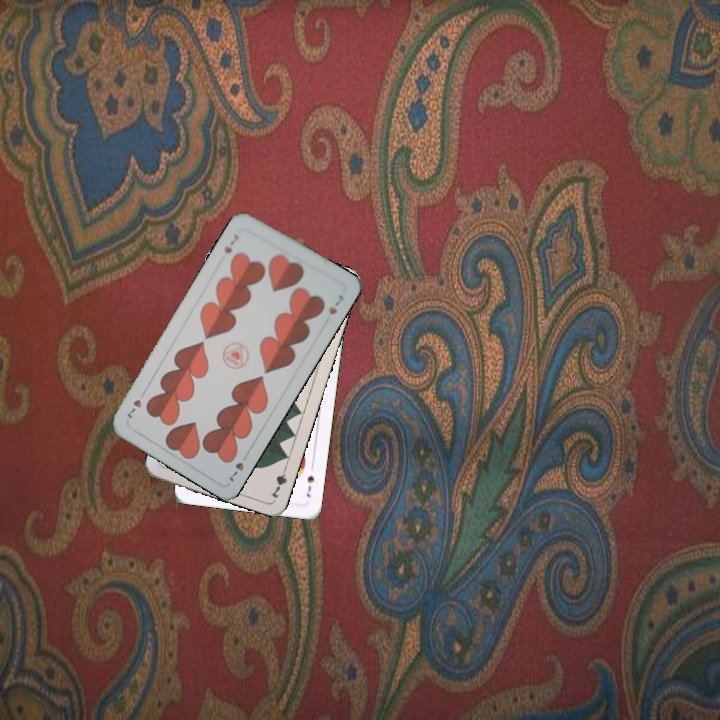G7: (267, 461, 290, 501)
H7: (225, 448, 251, 484), (220, 230, 241, 256)
S7: (302, 471, 317, 500)
